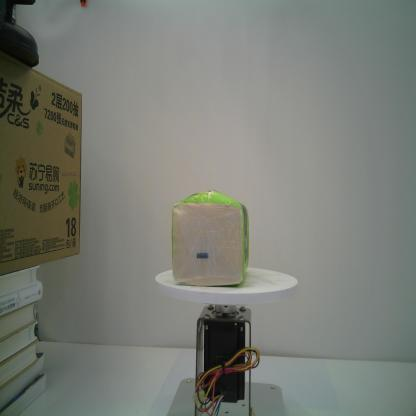Tissue: (171, 188, 249, 287)
